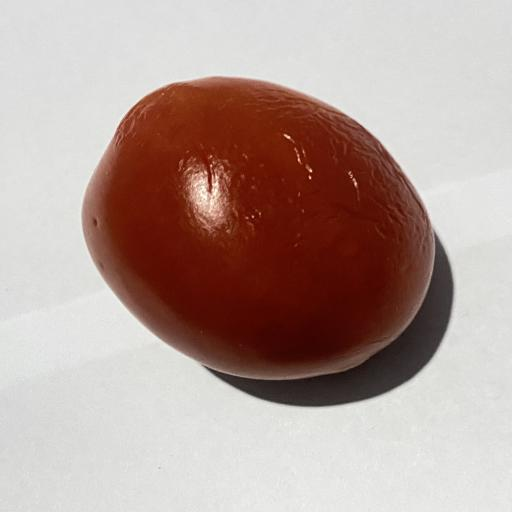spoiled: (82, 77, 434, 379)
